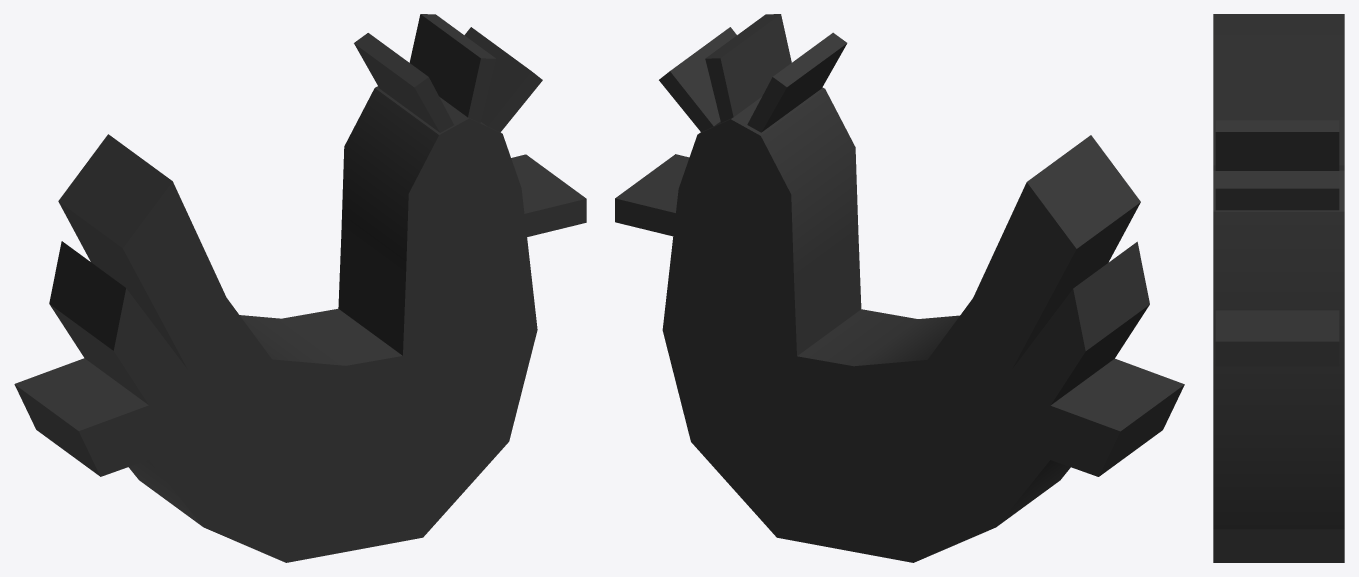
The picture shows the model from 3 angles, left to right: view 1: azimuth 30°, elevation 25°; view 2: azimuth 150°, elevation 25°; view 3: azimuth 270°, elevation 25°; orthographic projection.
Parts seen in each view (by area): view 1: polySurface14; view 2: polySurface14; view 3: polySurface14.
Part boxes in pixels (x1,y1,x2,y2): polySurface14: (14, 14, 586, 562); polySurface14: (615, 14, 1184, 562); polySurface14: (1213, 14, 1344, 562).
Size of the model in its own units: 3.54 by 3.08 by 0.7768.
